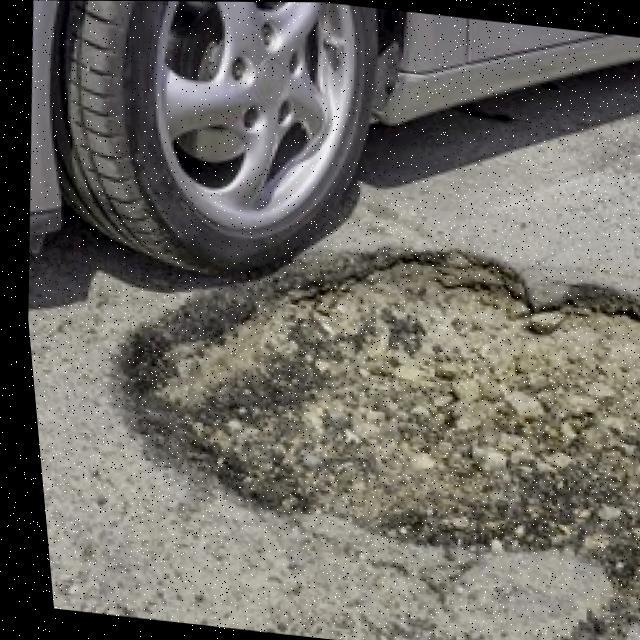pothole: (76, 198, 640, 586)
